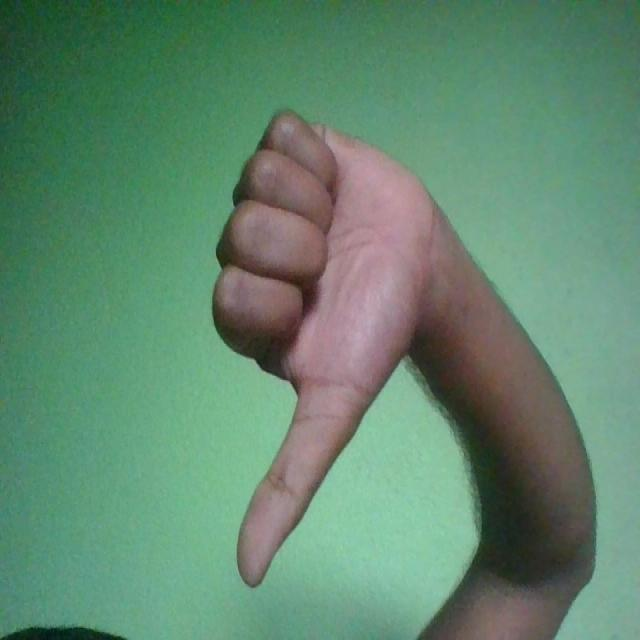Dislike: (213, 113, 440, 588)
